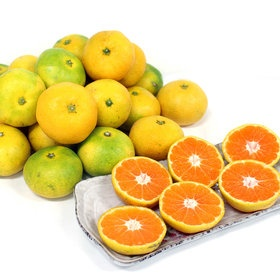mandarin: (35, 82, 98, 144), (159, 181, 226, 231), (100, 204, 168, 253), (113, 156, 173, 210), (23, 146, 83, 199), (221, 160, 280, 211), (77, 127, 137, 177), (168, 138, 222, 192), (83, 30, 135, 83), (222, 124, 279, 169), (1, 69, 46, 126), (127, 116, 185, 157), (84, 80, 132, 129), (158, 80, 208, 123), (36, 48, 86, 85), (1, 126, 30, 177), (126, 84, 160, 125), (132, 64, 162, 93), (52, 35, 89, 57), (27, 126, 54, 151), (10, 57, 35, 74)
